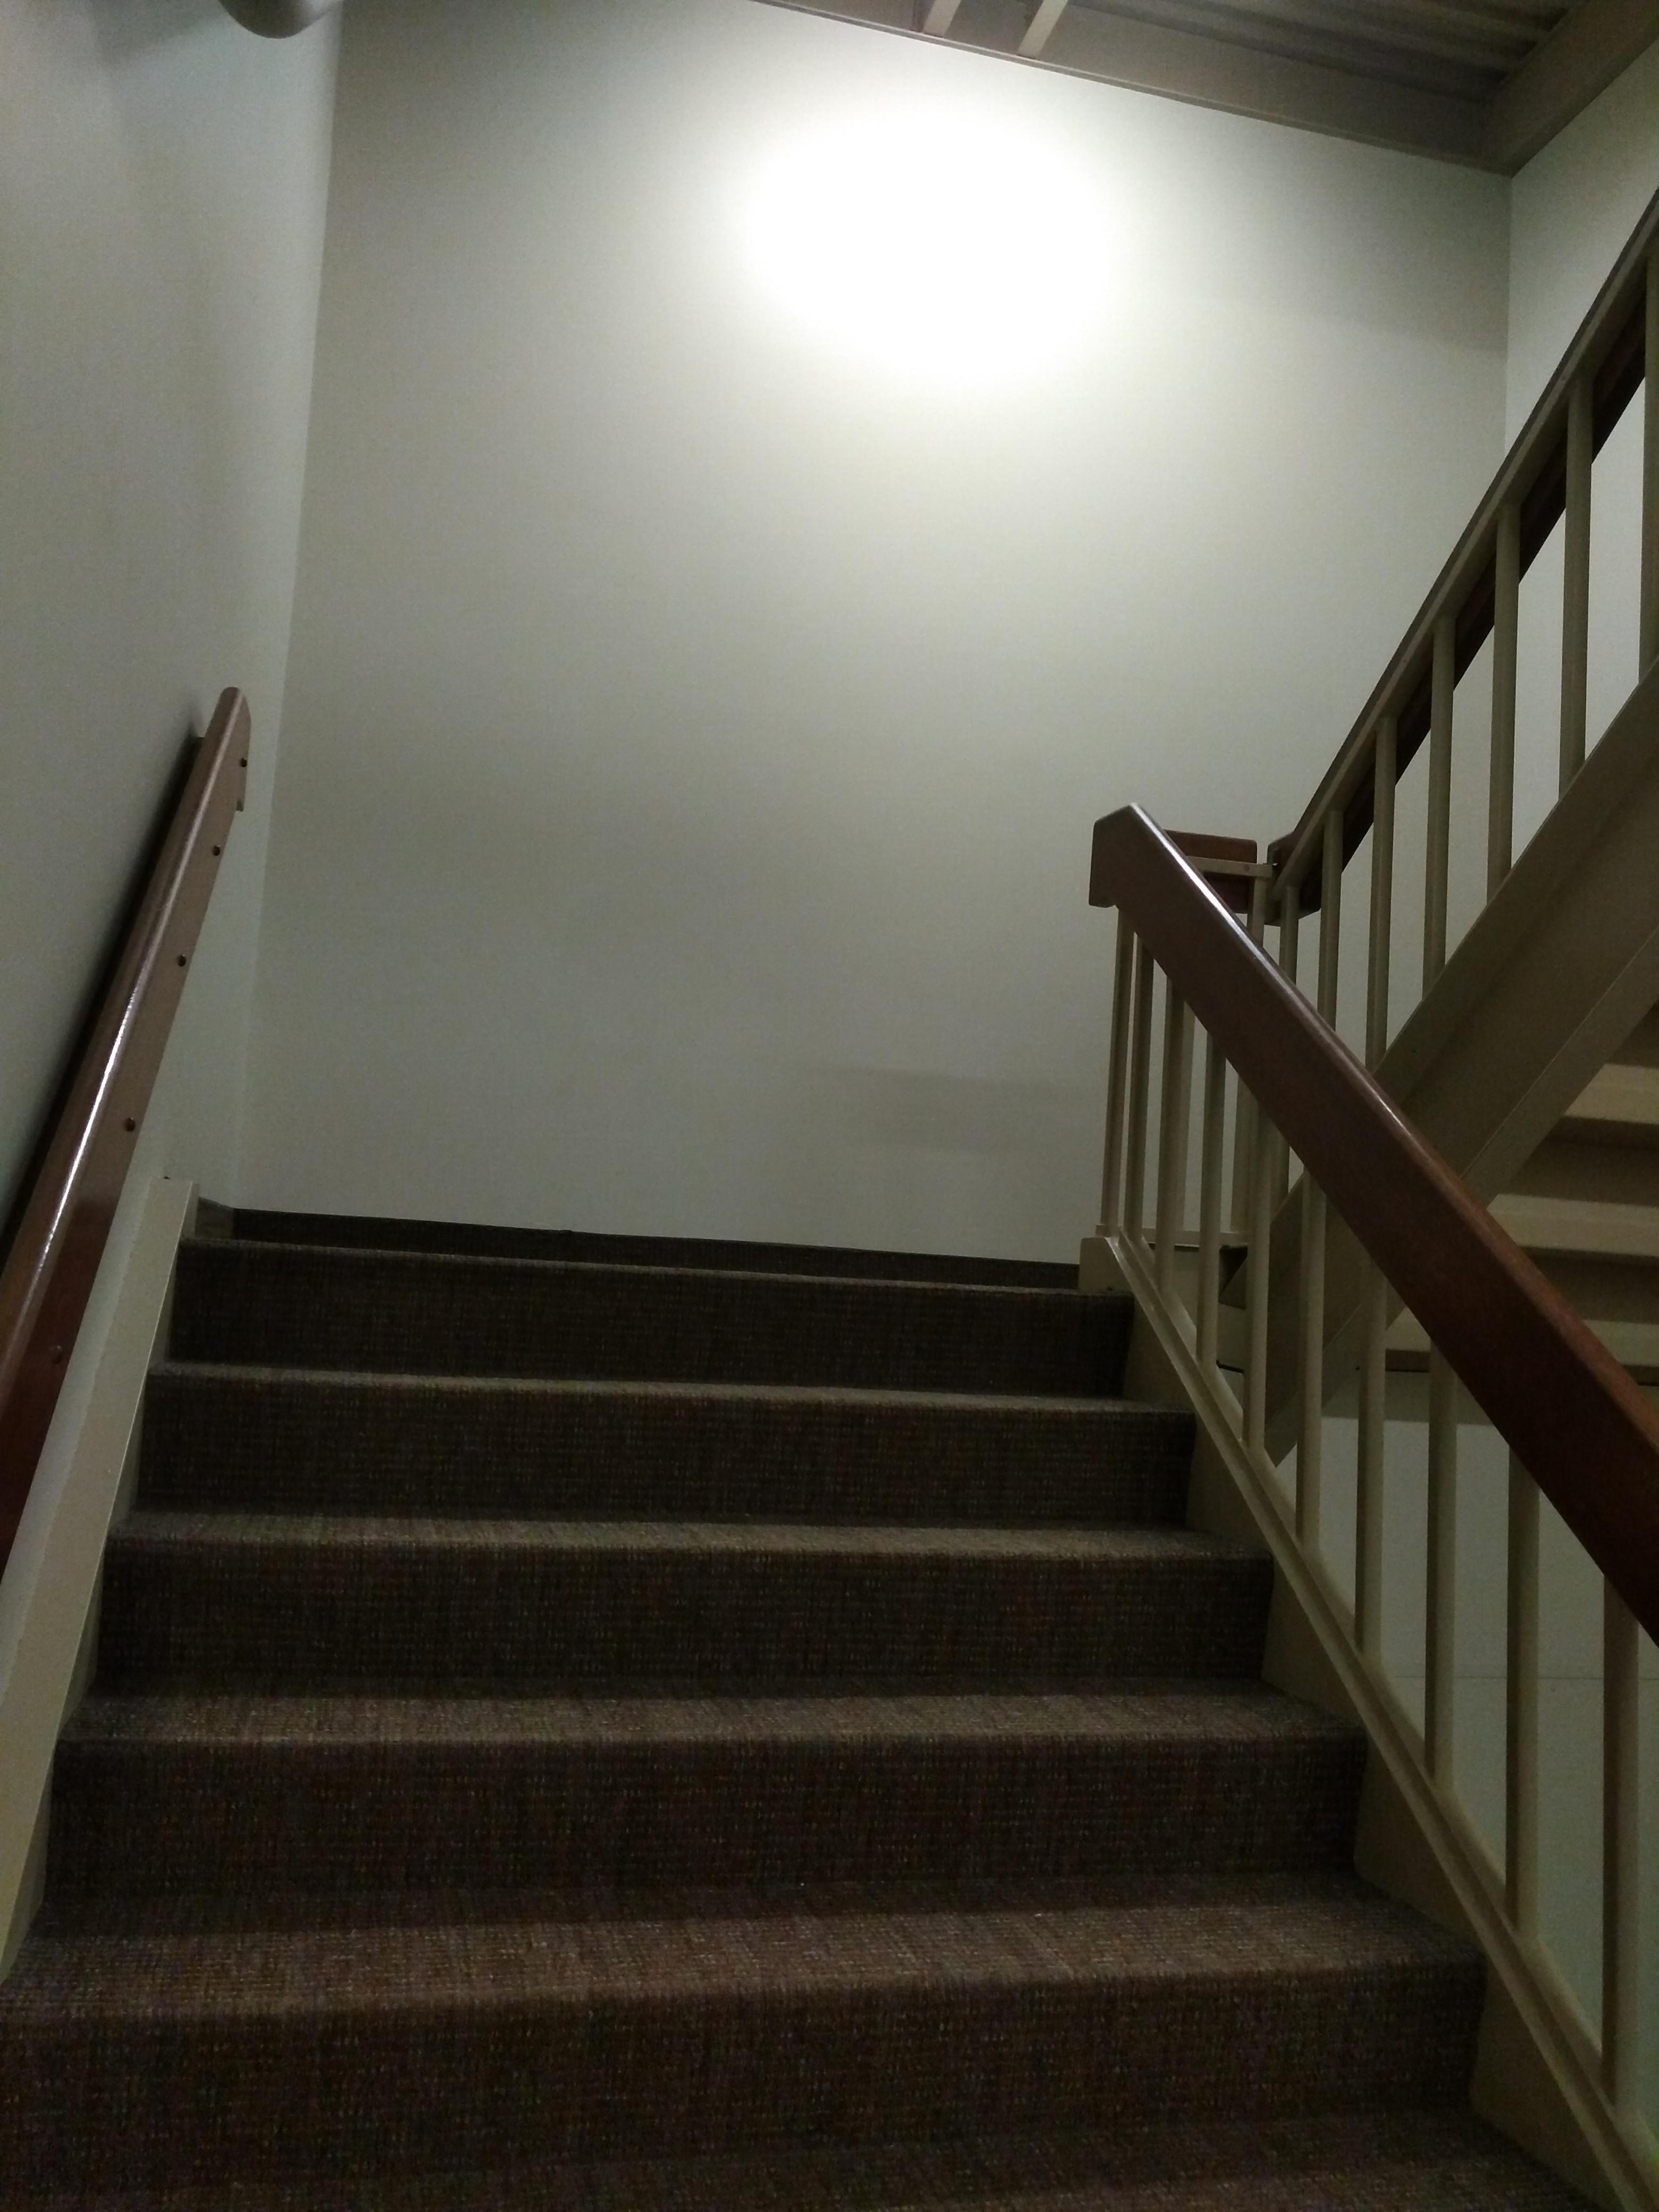stairs_up: (28, 1211, 1528, 2212)
